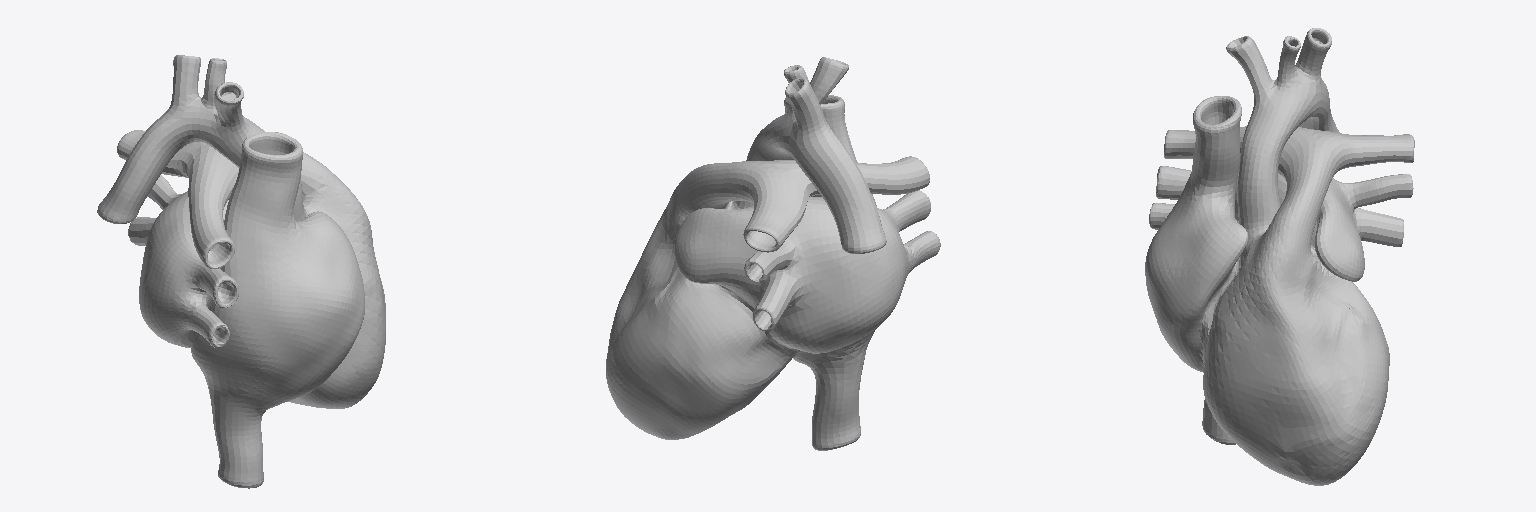
3 renders of one model, left to right at view 1: azimuth 30°, elevation 25°; view 2: azimuth 150°, elevation 25°; view 3: azimuth 270°, elevation 25°, orthographic.
Visible parts, largest first — view 1: HEART_PRO; view 2: HEART_PRO; view 3: HEART_PRO.
Boxes of the visible parts, box(x1,y1,x2,y2) form: HEART_PRO: box(97, 55, 385, 488); HEART_PRO: box(606, 57, 940, 450); HEART_PRO: box(1145, 28, 1414, 485).
Size of the model in its own units: 583 by 829 by 503.